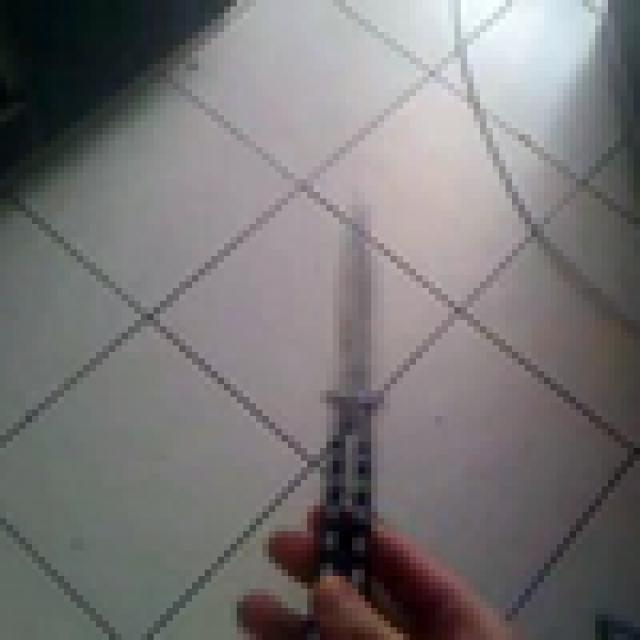knife: (218, 141, 468, 615)
